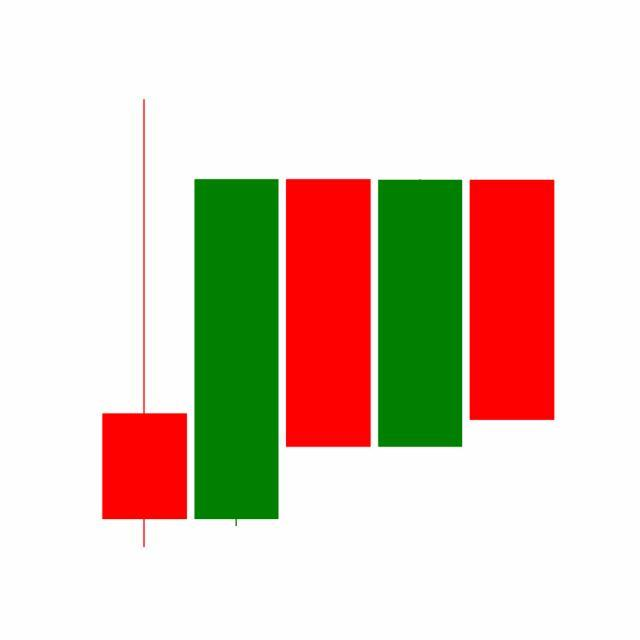Marubozu: (466, 177, 559, 422)
